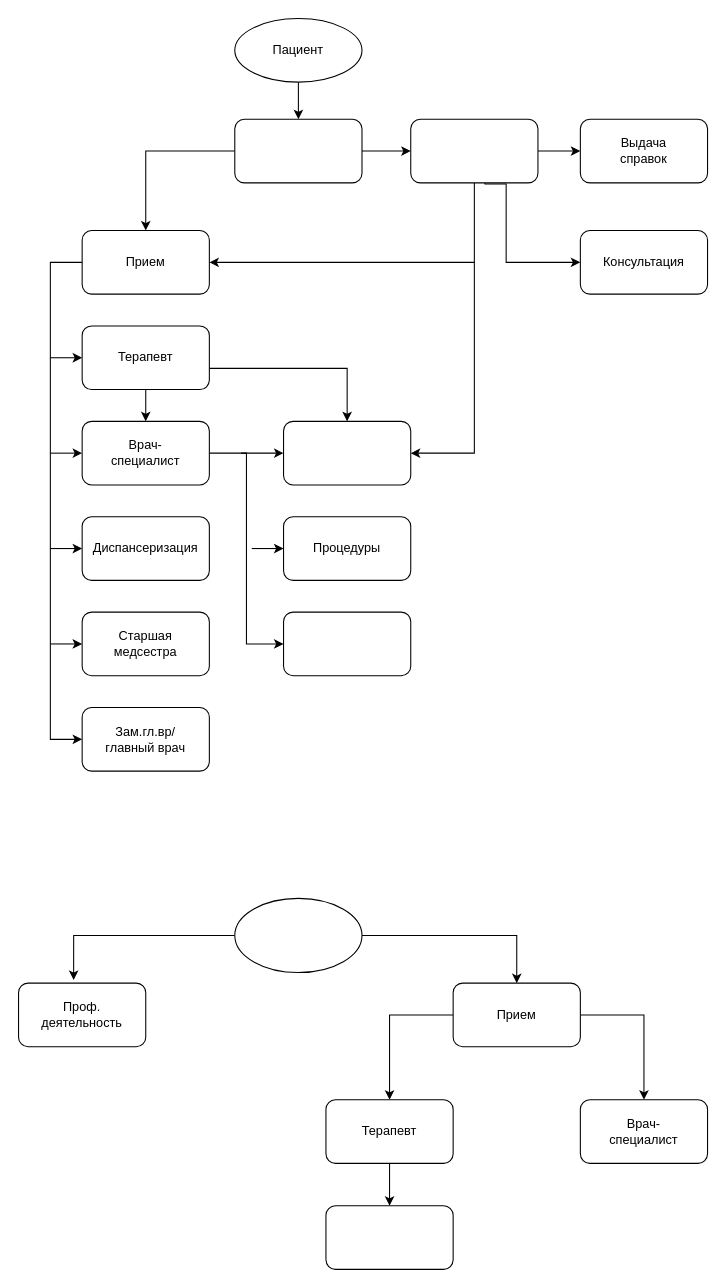
This 726x1288 diagram has some shape labels left out. The centre of each missing label's shape, as x and y in pixels:
Анализы/ снимки: point 346,452
Врач: point 298,935
Вызов на дом: point 389,1237
Дневной стационар: point 346,643
Запись на прием: point 298,150
Регистратура: point 474,150
